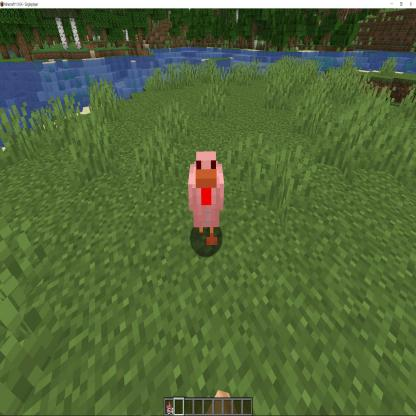minecraft-pigs: (185, 148, 225, 254)
